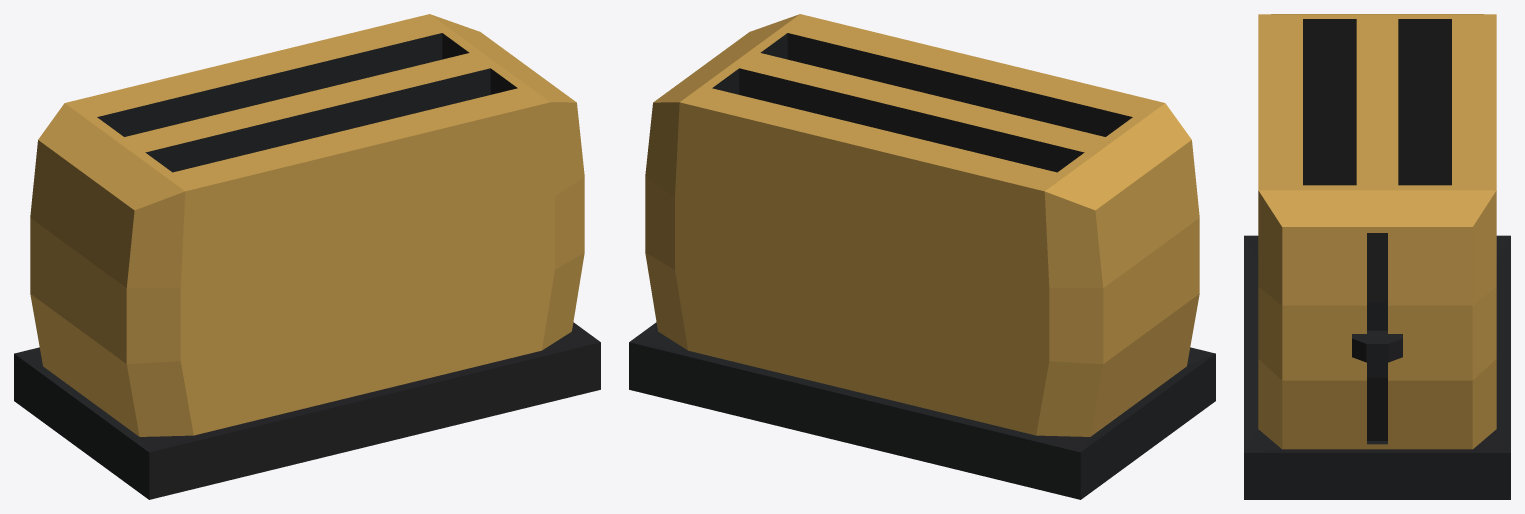
Rendered from toasteroawl_01_D.gltf.
3 renders of one model, left to right at view 1: azimuth 30°, elevation 25°; view 2: azimuth 150°, elevation 25°; view 3: azimuth 270°, elevation 25°, orthographic.
Parts seen in each view (by area): view 1: toasteroawl_01_D; view 2: toasteroawl_01_D; view 3: toasteroawl_01_D, Switchfortoasteroawl_01_D.
Part boxes in pixels (left/top/right/bottom): toasteroawl_01_D: left=14, top=14, right=600, bottom=499; toasteroawl_01_D: left=629, top=14, right=1215, bottom=499; toasteroawl_01_D: left=1244, top=14, right=1510, bottom=499; Switchfortoasteroawl_01_D: left=1352, top=330, right=1402, bottom=362.
Size of the model in its own units: 0.3437 by 0.2007 by 0.1679.
Materials: 1 (1 with a texture image).
